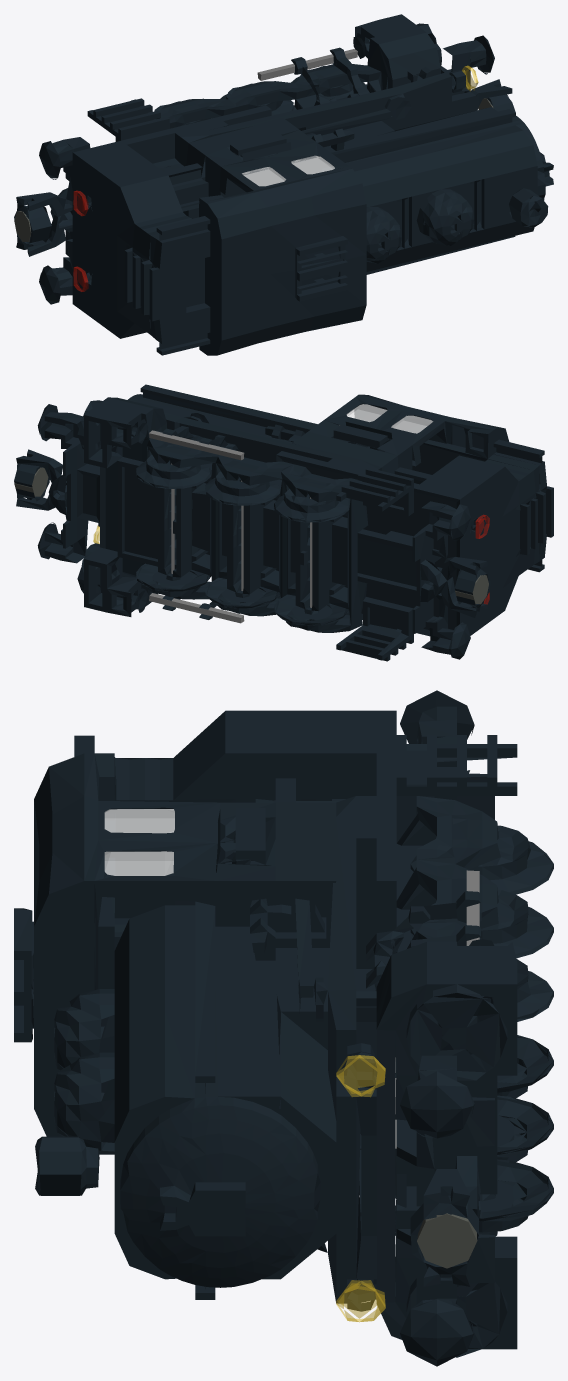
Rendered from 3-axis-steam-locomotive.glb.
The picture shows the model from 3 angles, top to bottom: view 1: azimuth 30°, elevation 25°; view 2: azimuth 150°, elevation 25°; view 3: azimuth 270°, elevation 25°; orthographic projection. The views are drawn at different scales.
Size of the model in its own units: 160 by 64 by 85.8.
